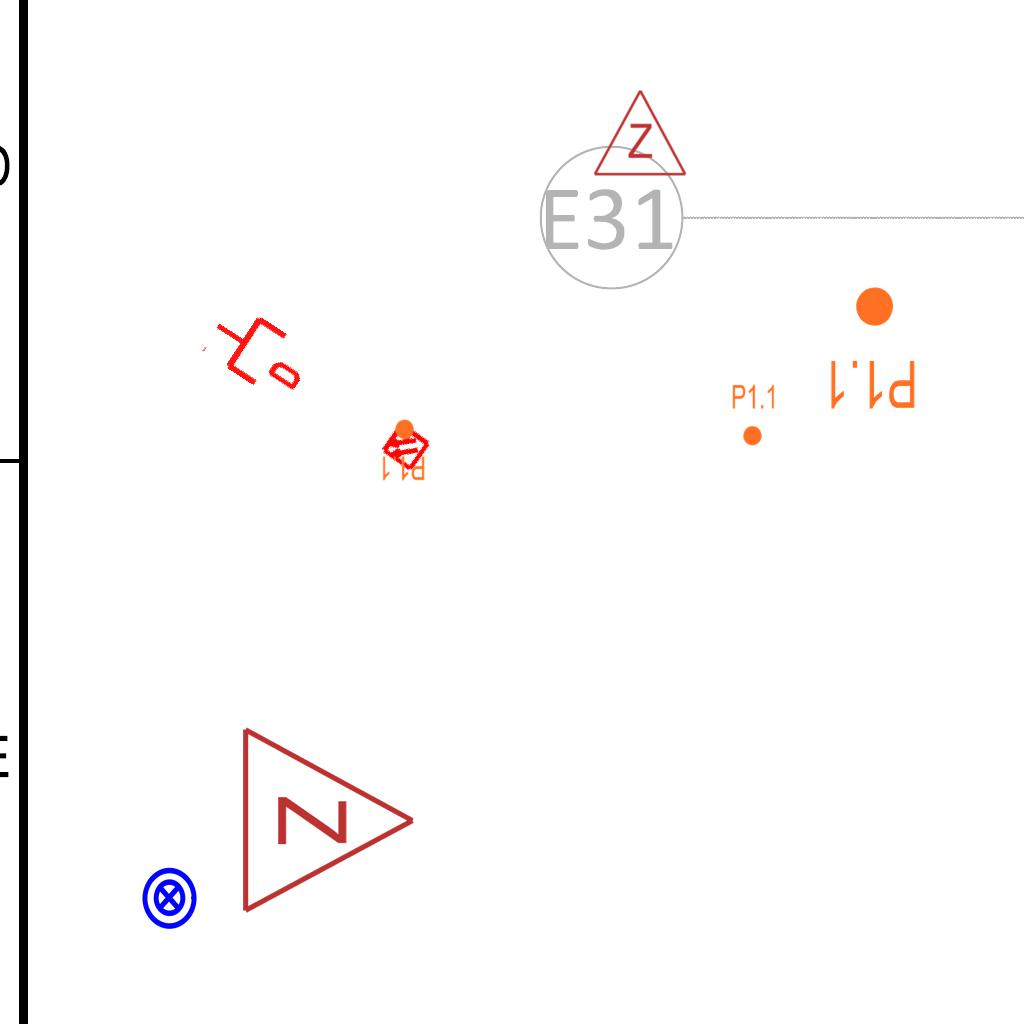Datenanschluss_einfach: (197, 295, 320, 409)
Downlight_LED_Einbauleuchten_Flur: (825, 284, 918, 412), (731, 383, 777, 447), (380, 418, 426, 482)
OT_Multisensormelder_(Kombination_RMO_WMD): (366, 407, 444, 485)
Taster_beleuchtet: (136, 865, 202, 931)
Zimmersignalleuchte: (228, 720, 428, 916), (590, 83, 688, 183)
